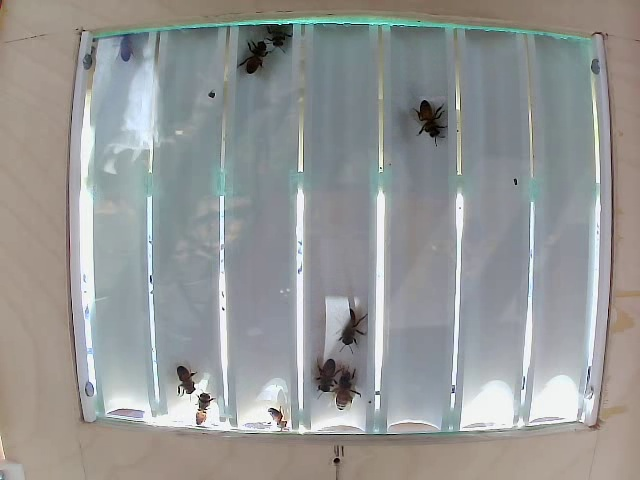bee: (412, 90, 456, 154), (235, 28, 278, 75), (337, 303, 377, 347), (169, 352, 206, 389), (315, 347, 340, 388), (338, 366, 362, 408)
